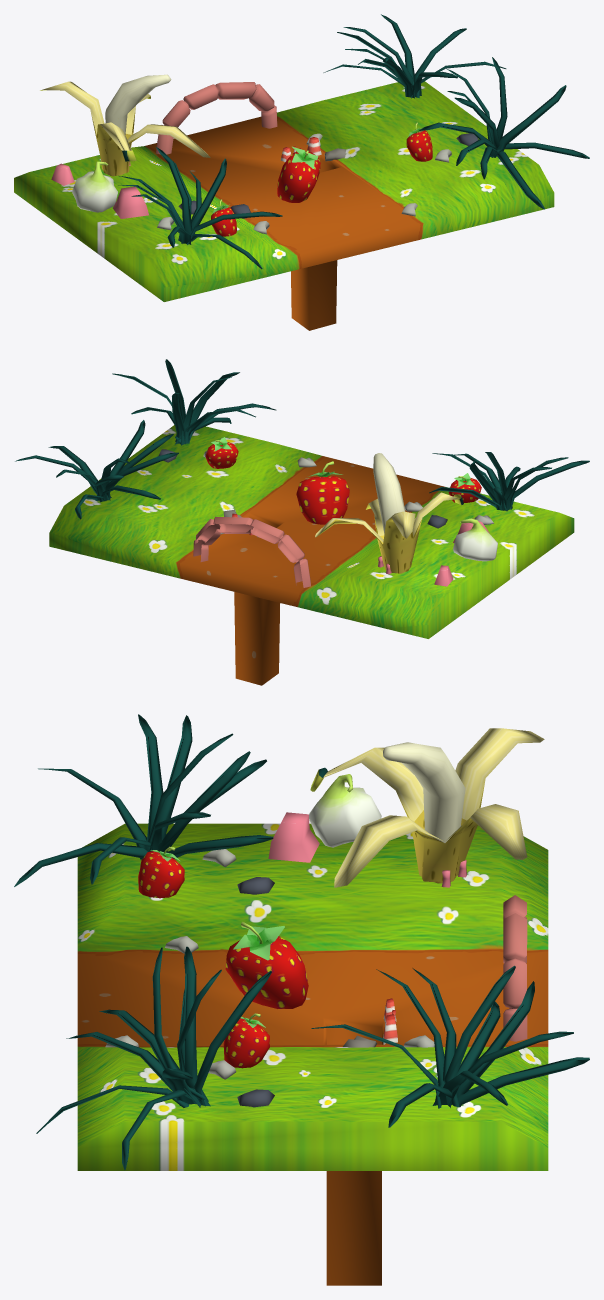
File: D_block_10.FBX
3 renders of one model, top to bottom at view 1: azimuth 30°, elevation 25°; view 2: azimuth 150°, elevation 25°; view 3: azimuth 270°, elevation 25°, orthographic. The views are drawn at different scales.
Visible parts, largest first — view 1: sol; view 2: sol; view 3: sol.
Boxes of the visible parts, x1,y1,x2,y2 form: sol: [14, 14, 589, 330]; sol: [15, 359, 589, 685]; sol: [14, 714, 589, 1285].
Bounding box in the file's own units: 1051 × 598 × 734.
